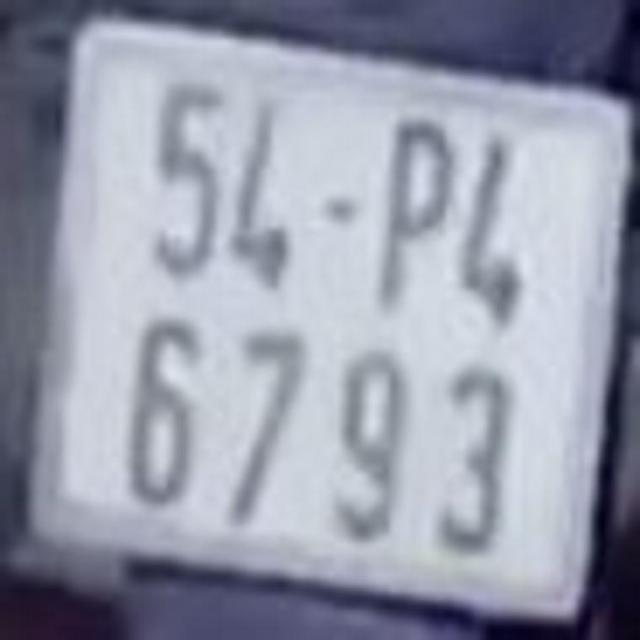3: (441, 373, 508, 562)
4: (465, 136, 529, 325), (233, 100, 290, 294)
5: (153, 80, 223, 282)
6: (127, 320, 196, 499)
7: (229, 326, 304, 536)
9: (337, 348, 404, 556)
P: (382, 113, 452, 314)
